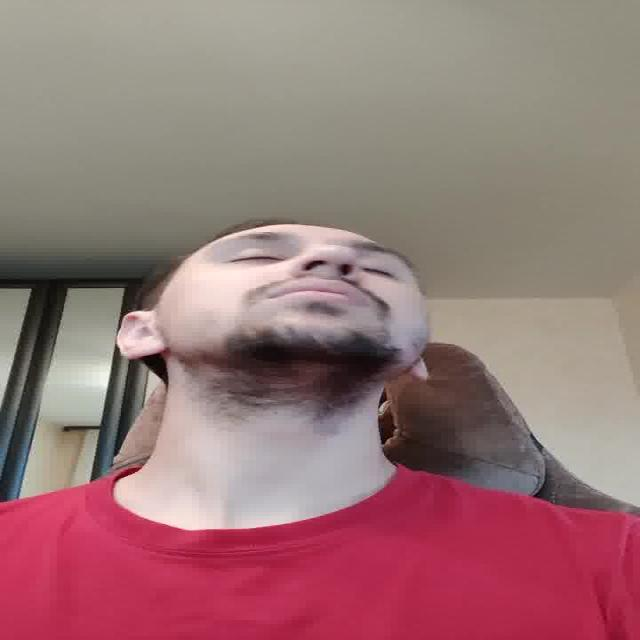earlobe: (118, 310, 167, 362)
